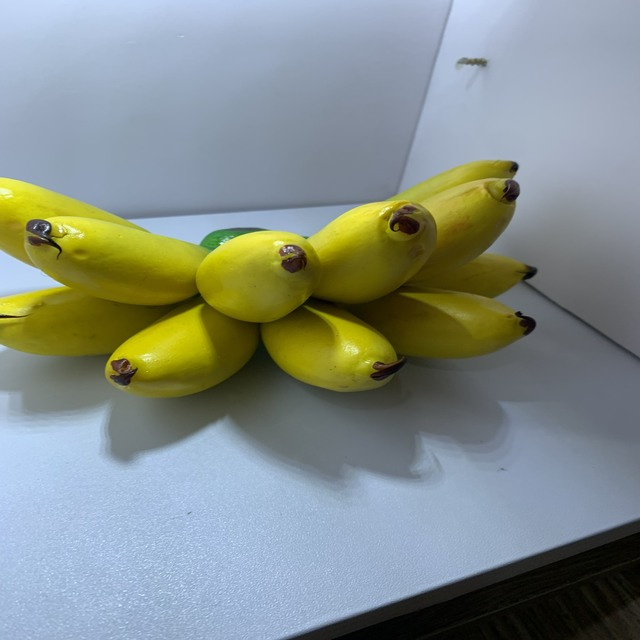Chuoi: (0, 148, 538, 409)
